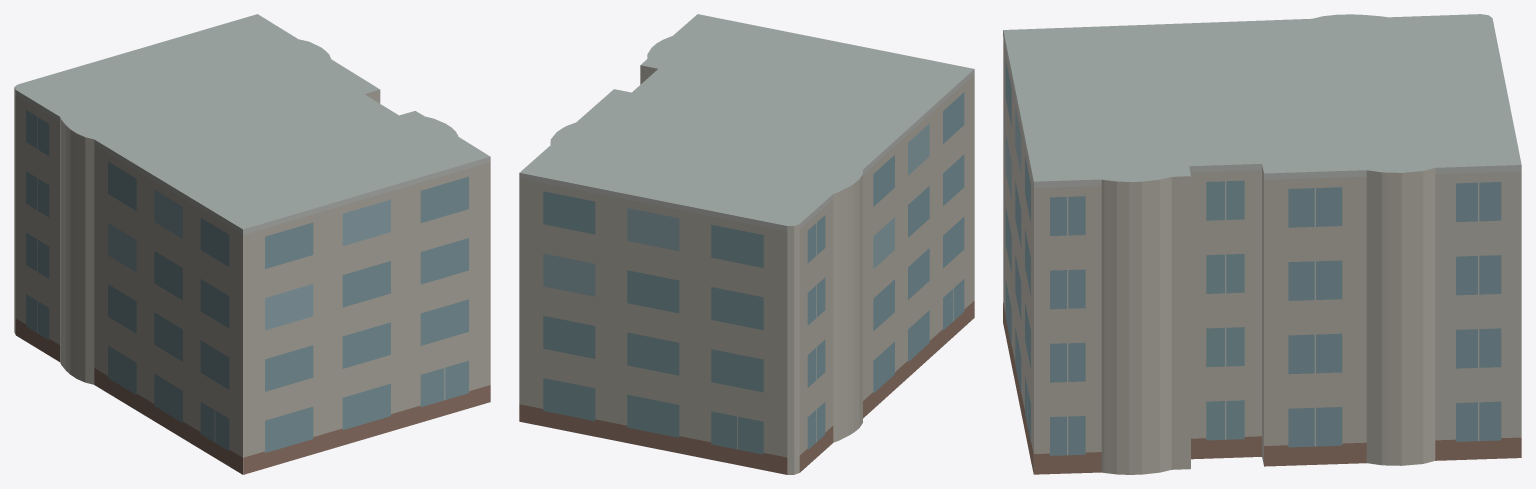
File: survey-upis-32555875.glb
3 views of the same model, side by side, from view 1: azimuth 30°, elevation 25°; view 2: azimuth 150°, elevation 25°; view 3: azimuth 270°, elevation 25° (orthographic). The views are drawn at different scales.
Parts seen in each view (by area): view 1: survey-upis-32555875.tmp; view 2: survey-upis-32555875.tmp; view 3: survey-upis-32555875.tmp.
Part boxes in pixels (left/top/right/bottom): survey-upis-32555875.tmp: left=14, top=14, right=490, bottom=474; survey-upis-32555875.tmp: left=519, top=14, right=974, bottom=474; survey-upis-32555875.tmp: left=1003, top=14, right=1521, bottom=474.
Size of the model in its own units: 13.66 by 11.1 by 17.81.
